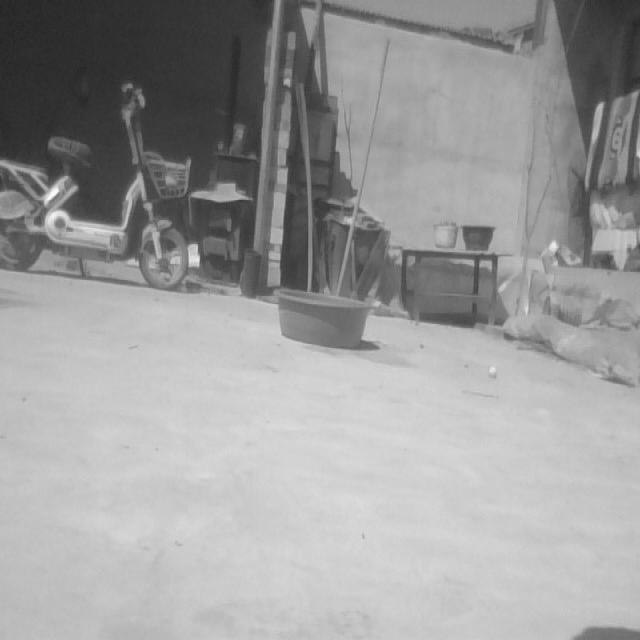ping-pong-ball: (488, 367, 496, 378)
